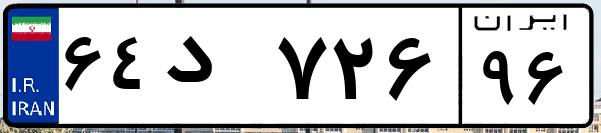2: (330, 28, 385, 110)
4: (110, 28, 158, 98)
6: (385, 28, 445, 110), (57, 26, 110, 100), (525, 38, 570, 115)
7: (270, 28, 330, 110)
9: (475, 38, 525, 113)
د: (158, 20, 270, 120)
